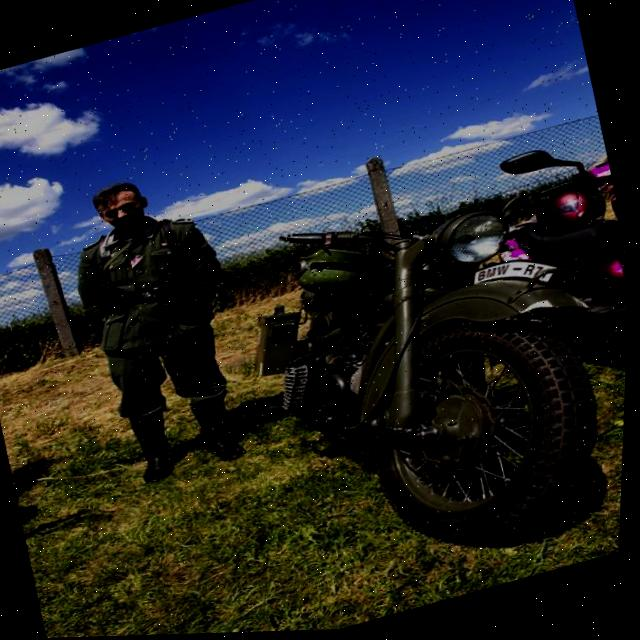motorcycle: (206, 128, 635, 603)
